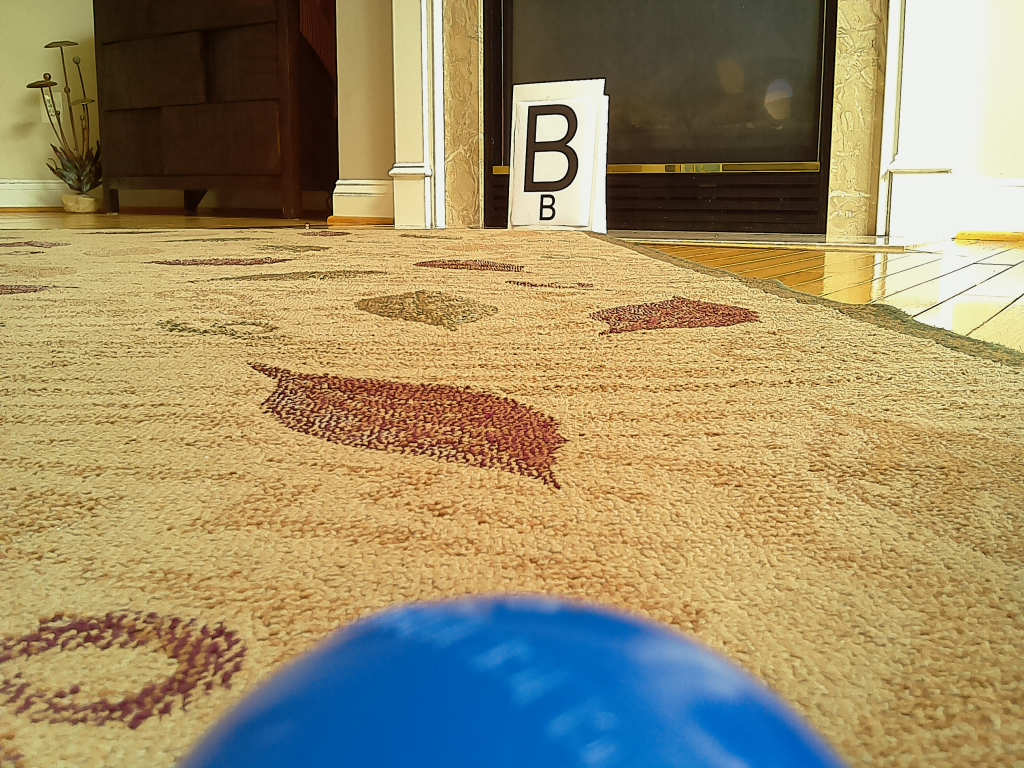letter: (523, 105, 580, 194)
